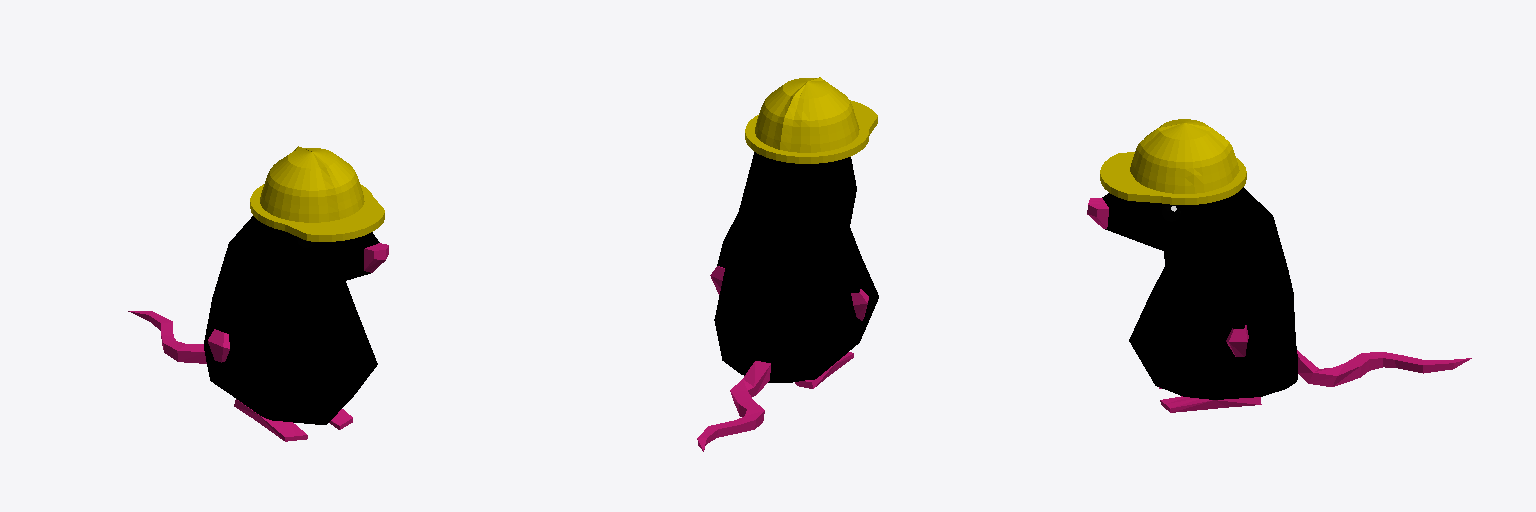
The model's file is RHb.obj.
3 views of the same model, side by side, from view 1: azimuth 30°, elevation 25°; view 2: azimuth 150°, elevation 25°; view 3: azimuth 270°, elevation 25° (orthographic).
Visible parts, largest first — view 1: Rat.012_buffer-0-mesh-0.115, Hard_hat.001_Circle.002, Hard_hat_bottom.001_Circle.003, Tail.004_buffer-0-mesh-0.124, Rleg.010_buffer-0-mesh-0.116, Rshoulder.009_buffer-0-mesh-0.118, Nose.005_buffer-0-mesh-0.122, Rhand.009_buffer-0-mesh-0.120; view 2: Rat.012_buffer-0-mesh-0.115, Hard_hat.001_Circle.002, Tail.004_buffer-0-mesh-0.124, Hard_hat_bottom.001_Circle.003; view 3: Rat.012_buffer-0-mesh-0.115, Hard_hat.001_Circle.002, Hard_hat_bottom.001_Circle.003, Tail.004_buffer-0-mesh-0.124, Lleg.010_buffer-0-mesh-0.117, Lshoulder.009_buffer-0-mesh-0.119.
Part boxes in pixels (x1,y1,x2,y2): Rat.012_buffer-0-mesh-0.115: (204, 216, 379, 424); Hard_hat.001_Circle.002: (260, 146, 364, 222); Hard_hat_bottom.001_Circle.003: (250, 184, 384, 241); Tail.004_buffer-0-mesh-0.124: (128, 311, 206, 363); Rleg.010_buffer-0-mesh-0.116: (234, 399, 307, 441); Rshoulder.009_buffer-0-mesh-0.118: (214, 297, 245, 333); Nose.005_buffer-0-mesh-0.122: (364, 243, 388, 272); Rhand.009_buffer-0-mesh-0.120: (208, 329, 229, 362); Rat.012_buffer-0-mesh-0.115: (714, 152, 878, 382); Hard_hat.001_Circle.002: (755, 77, 859, 152); Tail.004_buffer-0-mesh-0.124: (697, 361, 770, 451); Hard_hat_bottom.001_Circle.003: (745, 100, 877, 163); Rat.012_buffer-0-mesh-0.115: (1102, 187, 1297, 399); Hard_hat.001_Circle.002: (1130, 119, 1239, 193); Hard_hat_bottom.001_Circle.003: (1100, 152, 1246, 204); Tail.004_buffer-0-mesh-0.124: (1297, 350, 1471, 386); Lleg.010_buffer-0-mesh-0.117: (1160, 396, 1261, 412); Lshoulder.009_buffer-0-mesh-0.119: (1216, 296, 1252, 328).
Size of the model in its own units: 1.15 by 2.03 by 2.59.